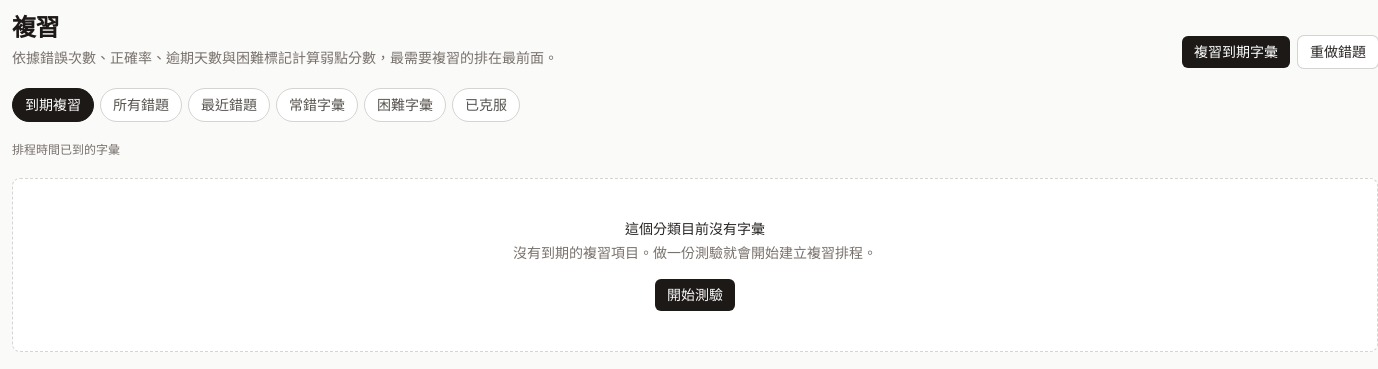
ReviewPage › orders the weakest word first
Expected: the heading "複習" is shown, [12,13,59,42]
What coordinates should you click on to do the following:
click the tab "所有錯題"
I would click on:
 (141, 105)
Its box is [100,88,182,122].
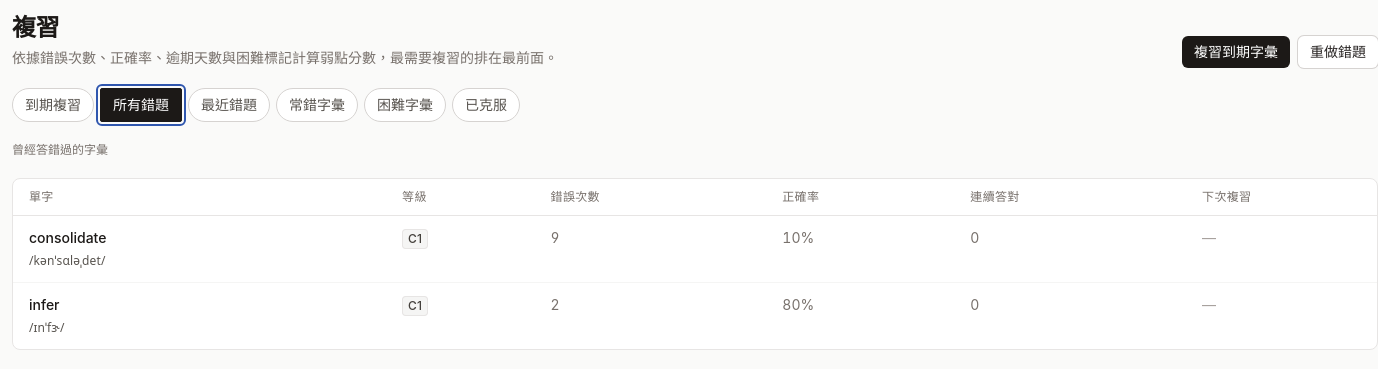
Result: the link "consolidate" is shown at [29,229,106,246]
